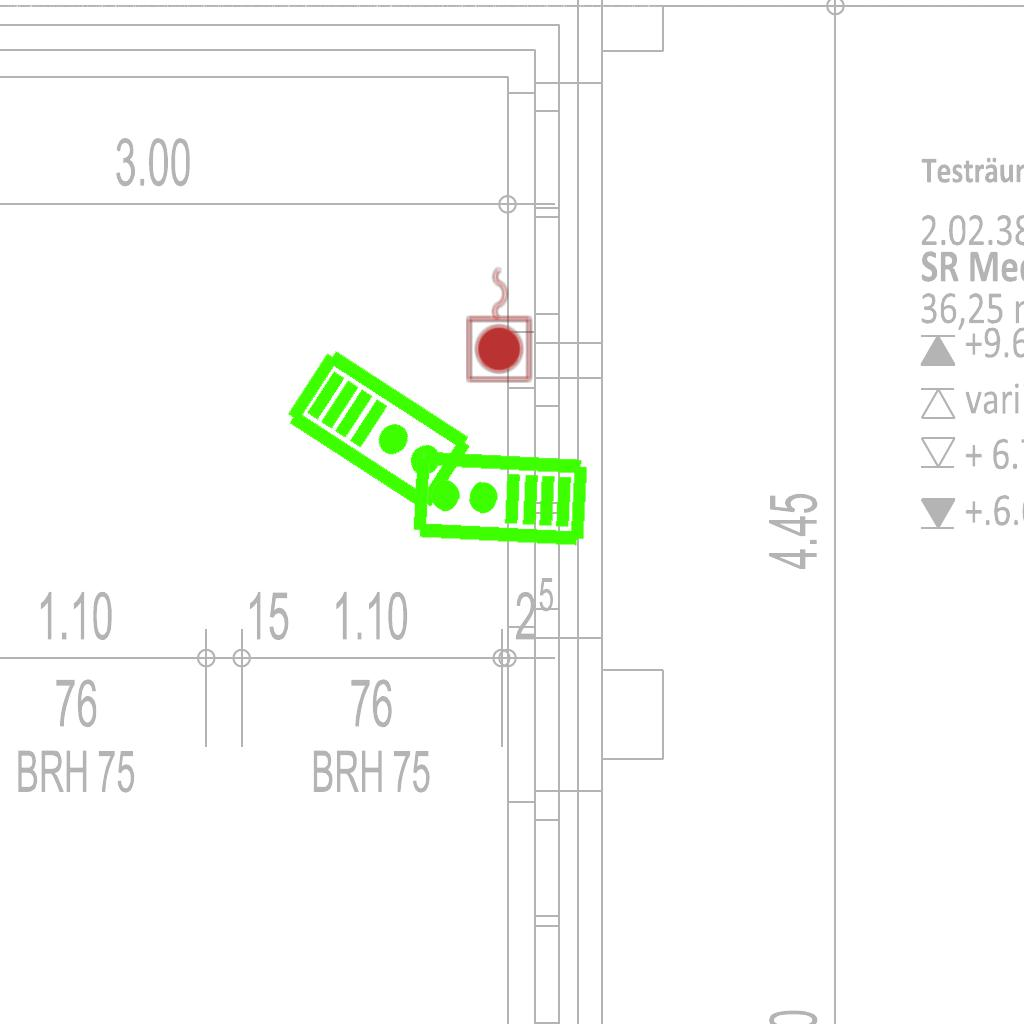Gegensprechanlage_mit_Video: (280, 341, 481, 517), (409, 447, 590, 553)
Zugtaster: (464, 263, 536, 385)
